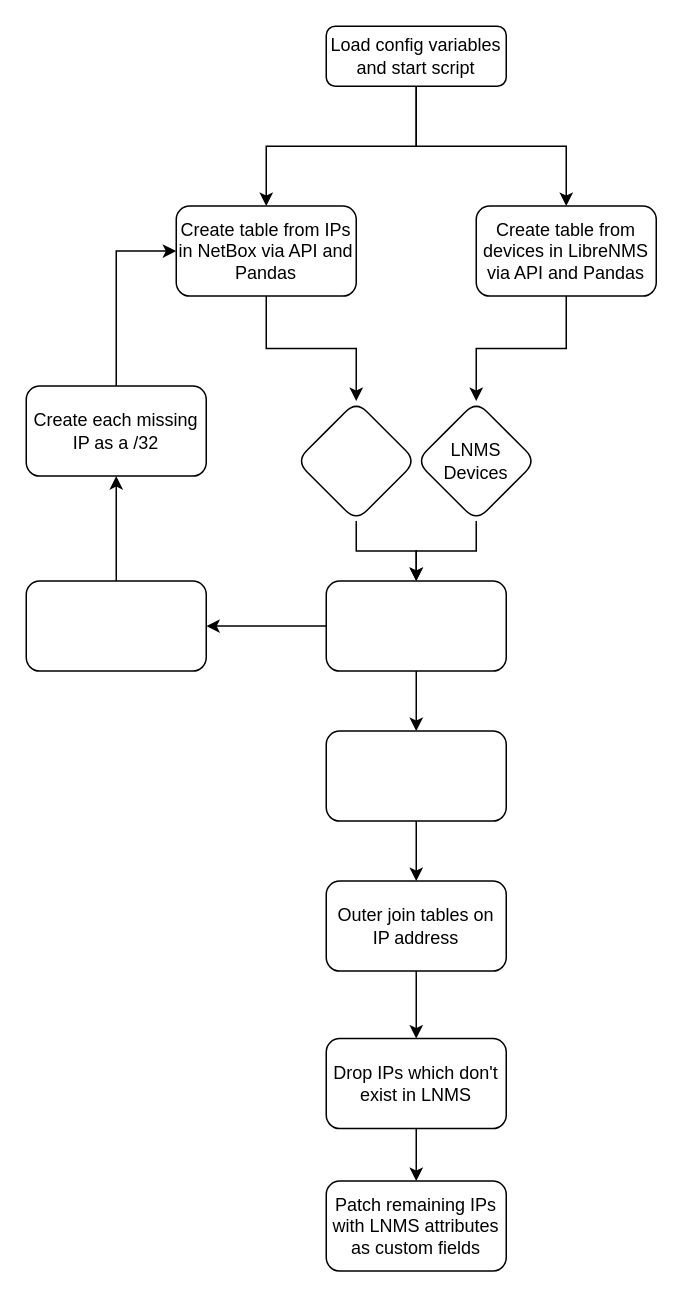
Some shapes in this 683 by 1298 pixel diagram are drawn without their labels. The centre of each missing label's shape, as x and y in pixels:
"Are any LNMS devices missing from NetBox?" belongs at point (415, 625).
"NetBox IPs" belongs at point (355, 460).
"No" belongs at point (415, 775).
"Yes" belongs at point (115, 625).
